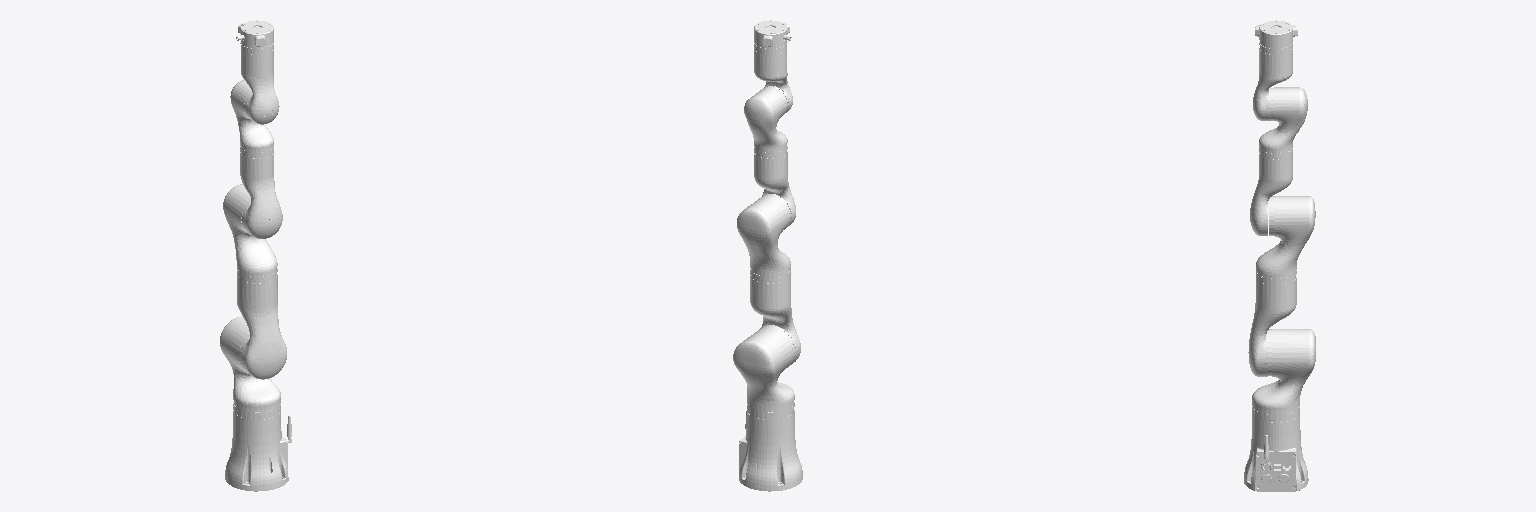
robot.urdf — RM65-B:
<robot name="RM65-B">
  <link name="base_link">
    <inertial>
      <origin xyz="-0.00049987 -5.2709E-05 0.060019" rpy="0 0 0" />
      <mass value="1.862" />
      <inertia ixx="0.0017232" ixy="-3.1058E-06" ixz="3.7924E-05" iyy="0.0017051" iyz="-1.3691E-06" izz="0.00090158" />
    </inertial>
    <visual>
      <origin xyz="0 0 0" rpy="0 0 0" />
      <geometry>
        <mesh filename="../meshes/base_link.obj" />
      </geometry>
      <material name="">
        <color rgba="1 1 1 1" />
      </material>
    </visual>
    <collision><geometry><mesh filename="../meshes/base_link.obj" />
      </geometry></collision></link>
  <link name="link_1">
    <inertial>
      <origin xyz="0.000941 0.007803 -0.10744" rpy="0 0 0" />
      <mass value="1.51" />
      <inertia ixx="0.002662223" ixy="-0.000026849" ixz="-0.000013775" iyy="0.002331685" iyz="-0.000078667" izz="0.001663712" />
    </inertial>
    <visual>
      <origin xyz="0 0 0" rpy="0 0 0" />
      <geometry>
        <mesh filename="../meshes/link_1.obj" />
      </geometry>
      <material name="">
        <color rgba="1 1 1 1" />
      </material>
    </visual>
    <collision><geometry><mesh filename="../meshes/link_1.obj" />
      </geometry></collision></link>
  <joint name="joint_1" type="revolute">
    <origin xyz="0 0 0.2405" rpy="0 0 0" />
    <parent link="base_link" />
    <child link="link_1" />
    <axis xyz="0 0 1" />
    <limit lower="-3.106" upper="3.106" effort="60" velocity="3.14" />
  </joint>
  <link name="link_2">
    <inertial>
      <origin xyz="0.183722 0.000103 -0.001665" rpy="0 0 0" />
      <mass value="1.653" />
      <inertia ixx="0.001706953" ixy="-0.000006995" ixz="0.001809254" iyy="0.014713776" iyz="0.000006223" izz="0.014239805" />
    </inertial>
    <visual>
      <origin xyz="0 0 0" rpy="0 0 0" />
      <geometry>
        <mesh filename="../meshes/link_2.obj" />
      </geometry>
      <material name="">
        <color rgba="1 1 1 1" />
      </material>
    </visual>
    <collision><geometry><mesh filename="../meshes/link_2.obj" />
      </geometry></collision></link>
  <joint name="joint_2" type="revolute">
    <origin xyz="0 0 0" rpy="1.5708 -1.5708 0" />
    <parent link="link_1" />
    <child link="link_2" />
    <axis xyz="0 0 1" />
    <limit lower="-2.2689" upper="2.2689" effort="60" velocity="3.14" />
  </joint>
  <link name="link_3">
    <inertial>
      <origin xyz="0.000029 -0.090105 0.004039" rpy="0 0 0" />
      <mass value="0.726" />
      <inertia ixx="0.001350874" ixy="0.000001069" ixz="-0.000000228" iyy="0.000360021" iyz="-0.000219904" izz="0.001331598" />
    </inertial>
    <visual>
      <origin xyz="0 0 0" rpy="0 0 0" />
      <geometry>
        <mesh filename="../meshes/link_3.obj" />
      </geometry>
      <material name="">
        <color rgba="1 1 1 1" />
      </material>
    </visual>
    <collision><geometry><mesh filename="../meshes/link_3.obj" />
      </geometry></collision></link>
  <joint name="joint_3" type="revolute">
    <origin xyz="0.256 0 0" rpy="0 0 1.5708" />
    <parent link="link_2" />
    <child link="link_3" />
    <axis xyz="0 0 1" />
    <limit lower="-2.356" upper="2.356" effort="30" velocity="3.14" />
  </joint>
  <link name="link_4">
    <inertial>
      <origin xyz="0.000007 -0.009486 -0.008041" rpy="0 0 0" />
      <mass value="0.671" />
      <inertia ixx="0.000690221" ixy="-0.000000865" ixz="-0.000000692" iyy="0.000552834" iyz="0.000016411" izz="0.000425835" />
    </inertial>
    <visual>
      <origin xyz="0 0 0" rpy="0 0 0" />
      <geometry>
        <mesh filename="../meshes/link_4.obj" />
      </geometry>
      <material name="">
        <color rgba="1 1 1 1" />
      </material>
    </visual>
    <collision><geometry><mesh filename="../meshes/link_4.obj" />
      </geometry></collision></link>
  <joint name="joint_4" type="revolute">
    <origin xyz="0 -0.21 0" rpy="1.5708 0 0" />
    <parent link="link_3" />
    <child link="link_4" />
    <axis xyz="0 0 1" />
    <limit lower="-3.106" upper="3.106" effort="10" velocity="3.14" />
  </joint>
  <link name="link_5">
    <inertial>
      <origin xyz="0.000032 -0.083769 0.002326" rpy="0 0 0" />
      <mass value="0.647" />
      <inertia ixx="0.000834052" ixy="0.000000952" ixz="-0.000000257" iyy="0.000281767" iyz="-0.000111750" izz="0.000821714" />
    </inertial>
    <visual>
      <origin xyz="0 0 0" rpy="0 0 0" />
      <geometry>
        <mesh filename="../meshes/link_5.obj" />
      </geometry>
      <material name="">
        <color rgba="1 1 1 1" />
      </material>
    </visual>
    <collision><geometry><mesh filename="../meshes/link_5.obj" />
      </geometry></collision></link>
  <joint name="joint_5" type="revolute">
    <origin xyz="0 0 0" rpy="-1.5708 0 0" />
    <parent link="link_4" />
    <child link="link_5" />
    <axis xyz="0 0 1" />
    <limit lower="-2.234" upper="2.234" effort="10" velocity="3.14" />
  </joint>
  <link name="link_6">
    <inertial>
      <origin xyz="-0.000569 0.00029 -0.010569" rpy="0 0 0" />
      <mass value="0.104" />
      <inertia ixx="3.043E-05" ixy="2.622E-09" ixz="2.199E-08" iyy="3.604E-05" iyz="1.195E-08" izz="5.52E-05" />
    </inertial>
    <visual>
      <origin xyz="0 0 0" rpy="0 0 0" />
      <geometry>
        <mesh filename="../meshes/link_6.obj" />
      </geometry>
      <material name="">
        <color rgba="1 1 1 1" />
      </material>
    </visual>
    <collision><geometry><mesh filename="../meshes/link_6.obj" />
      </geometry></collision></link>
  <joint name="joint_6" type="revolute">
    <origin xyz="0 -0.144 0" rpy="1.5708 0 0" />
    <parent link="link_5" />
    <child link="link_6" />
    <axis xyz="0 0 1" />
    <limit lower="-6.28" upper="6.28" effort="10" velocity="3.14" />
  </joint>
</robot>

--- Render facts (derived) ---
3 views of the same robot in one strip: view 1: azimuth 30°, elevation 25°; view 2: azimuth 150°, elevation 25°; view 3: azimuth 270°, elevation 25° (orthographic).
Model RM65-B with 7 links and 6 joints (6 revolute), rooted at base_link, posed all joints at 0.
Links seen in each view (by area): view 1: link_2, base_link, link_3, link_1, link_5, link_4, link_6; view 2: link_2, base_link, link_1, link_4, link_3, link_5, link_6; view 3: link_2, base_link, link_1, link_4, link_3, link_5, link_6.
Boxes of the visible links, x1,y1,x2,y2 form: link_2: (223,184,286,379); base_link: (225,406,291,491); link_3: (240,148,282,238); link_1: (220,316,280,414); link_5: (241,45,279,124); link_4: (230,80,273,153); link_6: (236,20,273,49); link_2: (737,194,800,364); base_link: (739,405,802,491); link_1: (733,325,795,414); link_4: (744,86,788,153); link_3: (754,148,795,225); link_5: (754,45,792,112); link_6: (754,20,791,49); link_2: (1248,196,1315,376); base_link: (1244,409,1308,491); link_1: (1252,329,1315,416); link_4: (1259,87,1307,154); link_3: (1250,149,1292,235); link_5: (1253,44,1292,120); link_6: (1255,20,1297,49).
Size in the robot's own frame: 0.1143 by 0.123 by 0.8505 metres.
Meshes: 7 distinct files referenced, 7 mesh visuals loaded (7 OBJ).
